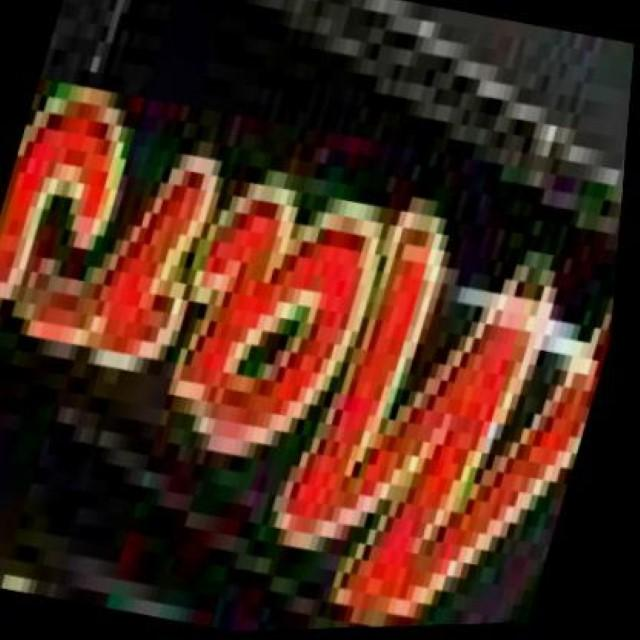mars_chocolate: (0, 35, 640, 583)
